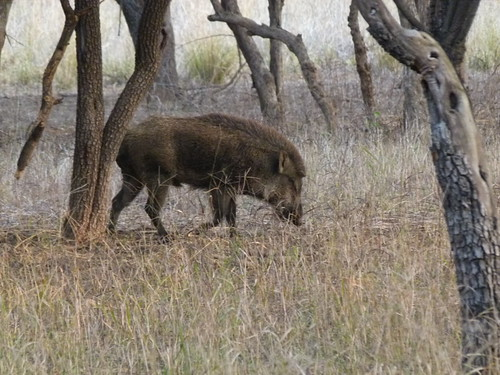wild boar: (91, 109, 310, 246)
